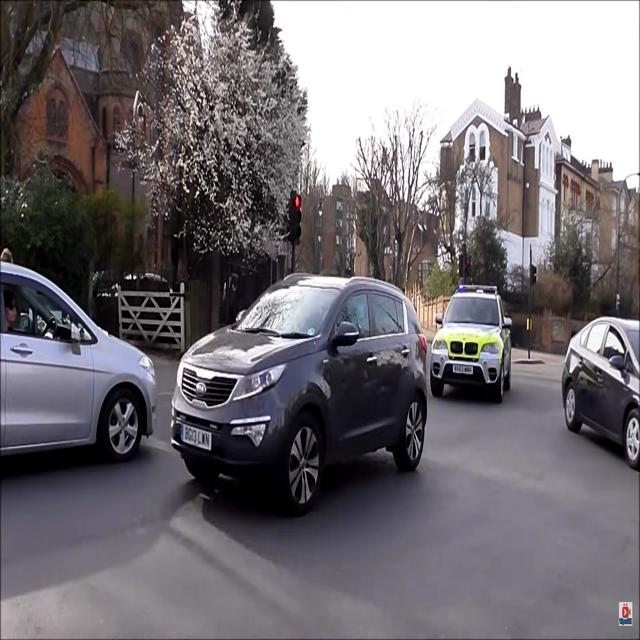emergency-vehicles: (428, 274, 516, 404)
